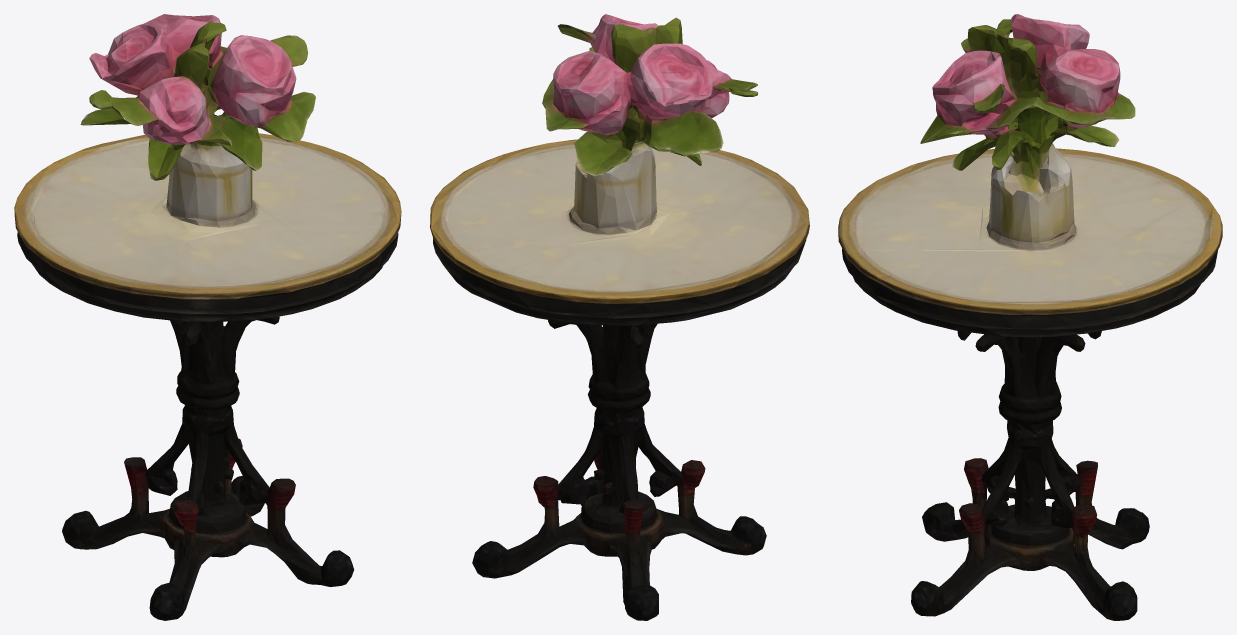
3 renders of one model, left to right at view 1: azimuth 30°, elevation 25°; view 2: azimuth 150°, elevation 25°; view 3: azimuth 270°, elevation 25°, orthographic. The views are drawn at different scales.
Visible parts, largest first — view 1: world; view 2: world; view 3: world.
Boxes of the visible parts, box(x1,y1,x2,y2) form: world: box(14, 14, 401, 620); world: box(430, 14, 809, 620); world: box(838, 14, 1222, 620).
Size of the model in its own units: 0.6486 by 0.9987 by 0.6494.
1 material, 1 textured.
